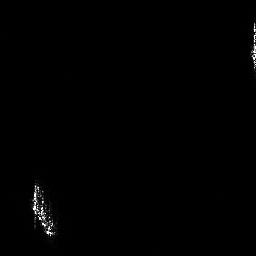ship: (30, 180, 61, 239)
